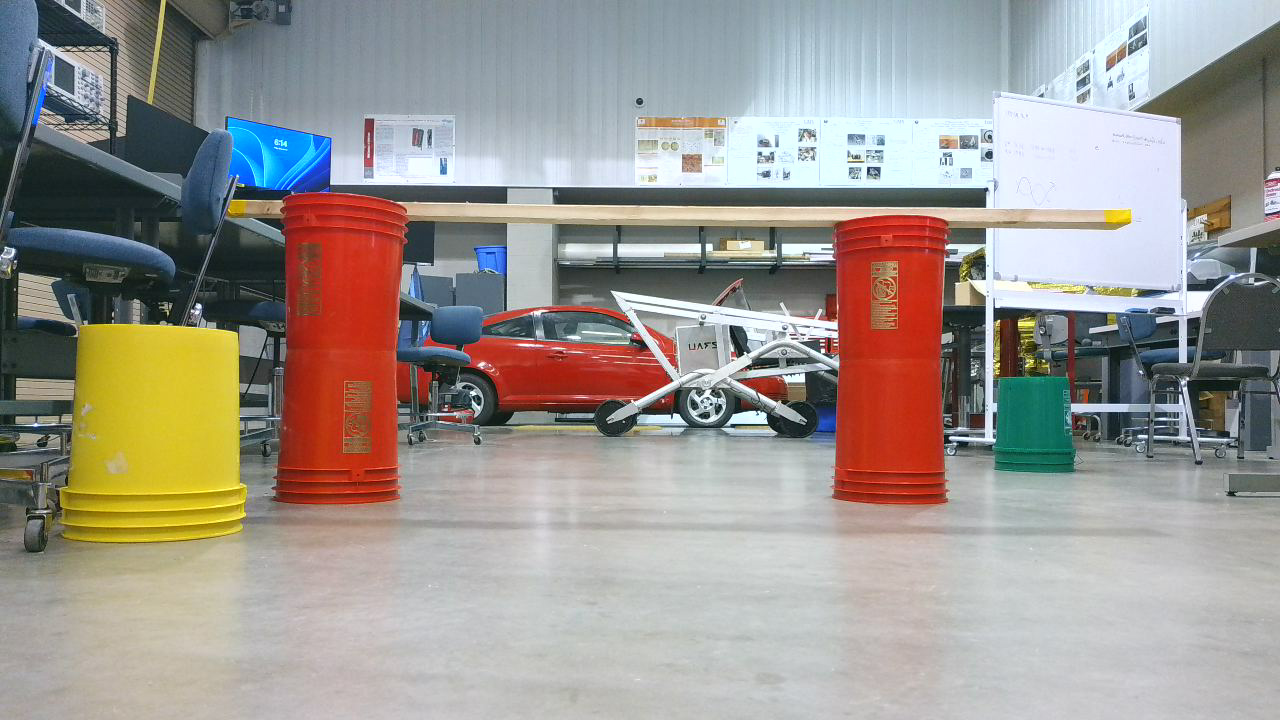green_bucket_barrier: (994, 374, 1084, 481)
red_bucket_arch: (274, 187, 968, 519)
yellow_bucket: (59, 322, 259, 547)
